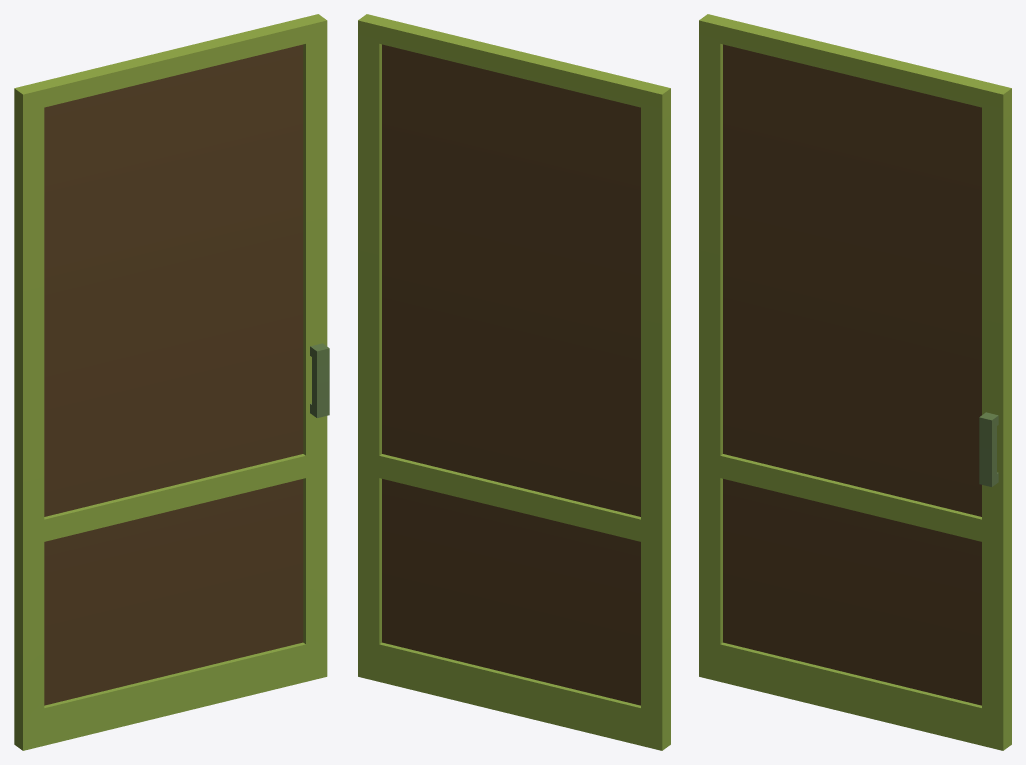
The model's file is SmallHouse_03_Door01.fbx.
3 renders of one model, left to right at view 1: azimuth 30°, elevation 25°; view 2: azimuth 150°, elevation 25°; view 3: azimuth 330°, elevation 25°, orthographic.
Parts seen in each view (by area): view 1: SmallHouse_03_Door01; view 2: SmallHouse_03_Door01; view 3: SmallHouse_03_Door01.
Part boxes in pixels (x1=…): SmallHouse_03_Door01: x1=14, y1=14, x2=329, y2=750; SmallHouse_03_Door01: x1=358, y1=14, x2=670, y2=750; SmallHouse_03_Door01: x1=699, y1=14, x2=1011, y2=750.
Bounding box in the file's own units: 1 × 2.06 × 0.0891.
